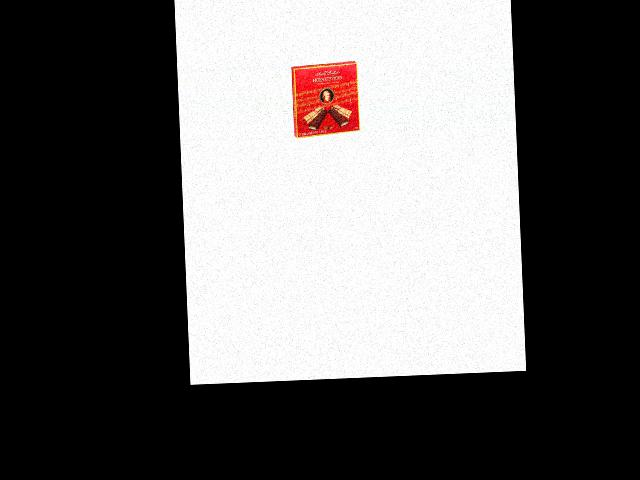chocolate: (290, 62, 361, 140)
